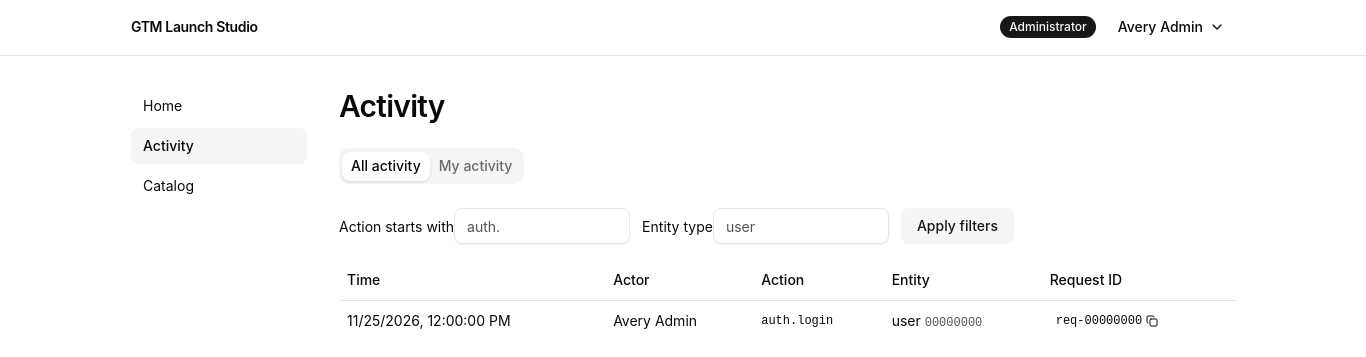
Test: ActivityPage › filters to one actor when their name is clicked, and clears it again
This screenshot has width=1366, height=357.
Scoped to the table: the top bar's user menu button has the same name.
Click the button "Avery Admin" next to "11/25/2026, 12:00:00 PM": (655, 320) left=613, top=310, right=697, bottom=330
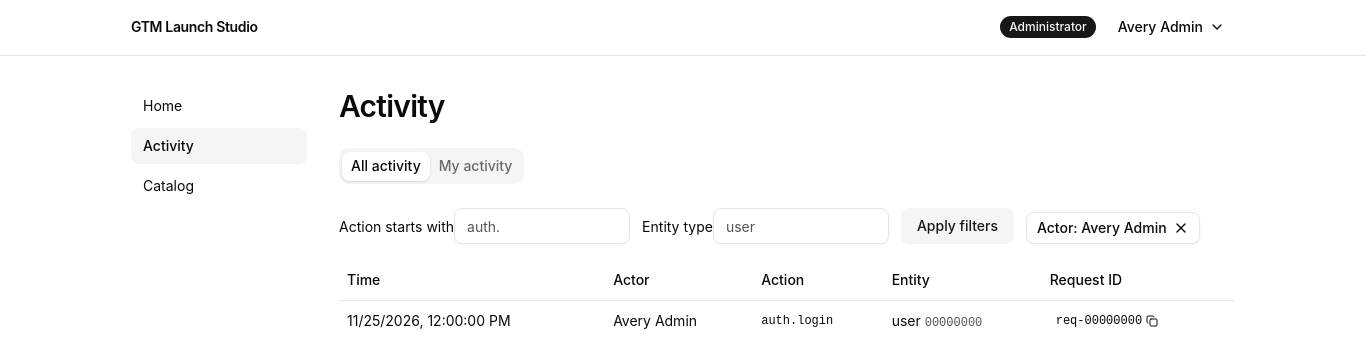
Clearing goes back to the unfiltered feed, which is still cached, so no new request is needed.
Click the button "Actor: Avery Admin": (1113, 228) left=1026, top=212, right=1200, bottom=244
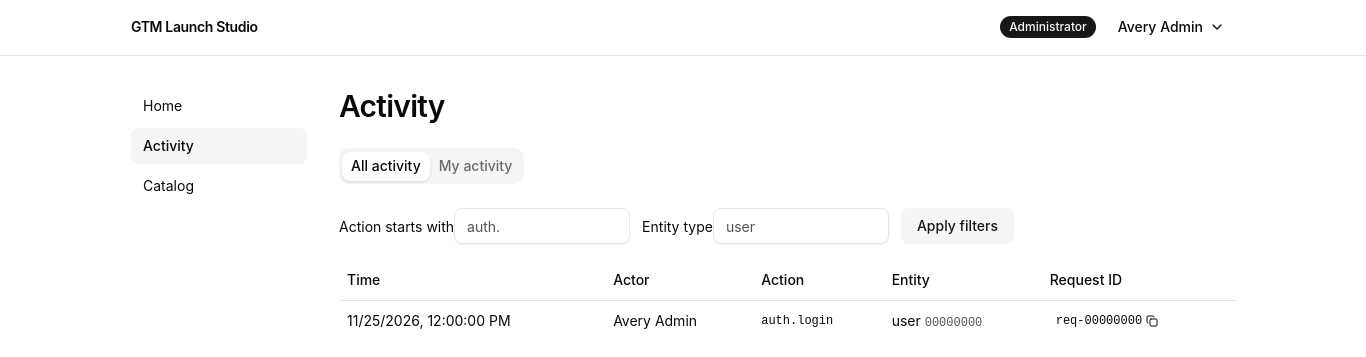
Expected: the text "auth.login" is shown, left=753, top=300, right=884, bottom=340
Result: the button "Actor:" is gone
